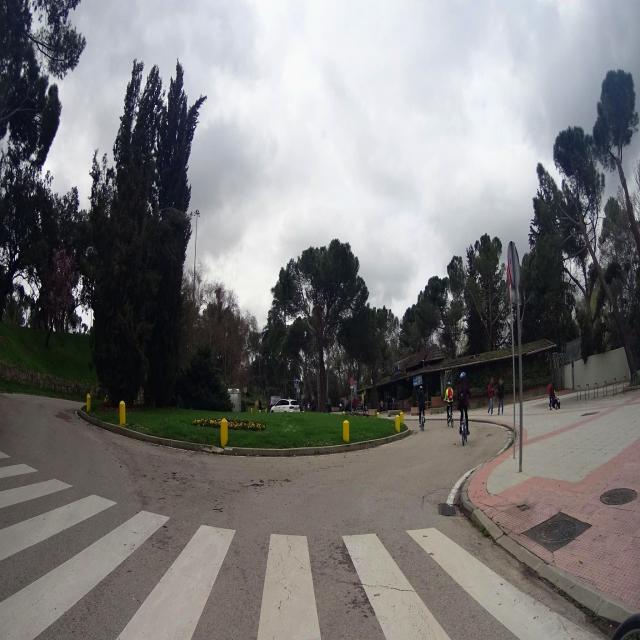bike: (548, 374, 561, 410)
car: (270, 397, 300, 412)
